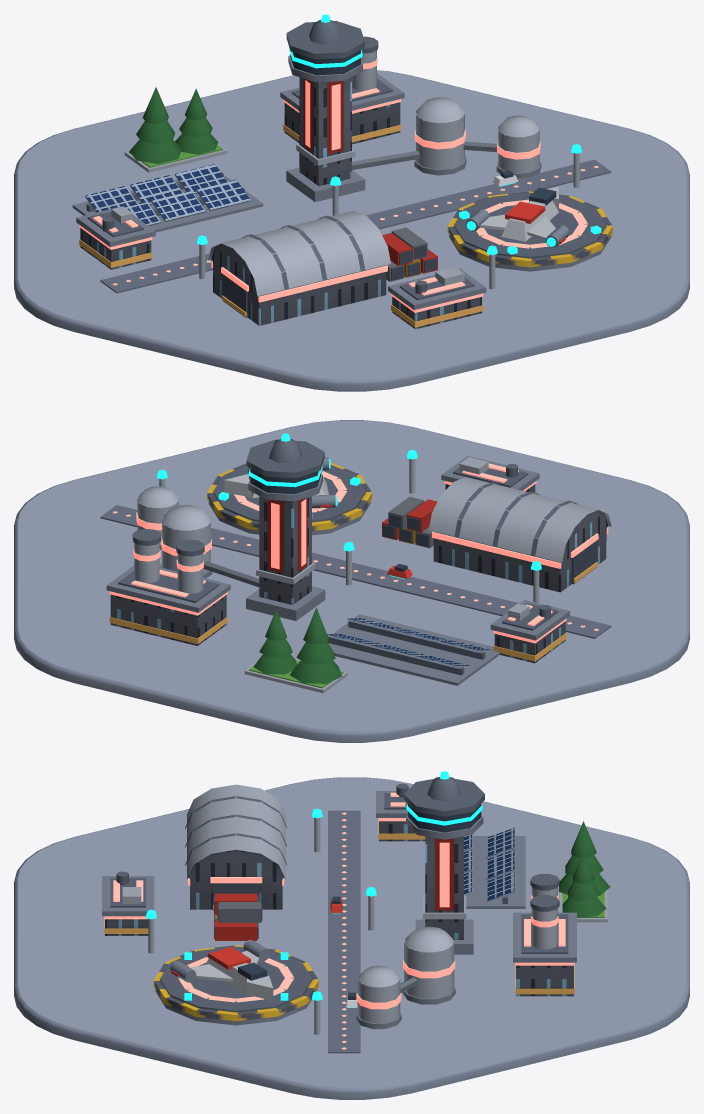
Rendered from district_scifi_c_red.glb.
3 views of the same model, one above another, from view 1: azimuth 30°, elevation 25°; view 2: azimuth 150°, elevation 25°; view 3: azimuth 270°, elevation 25° (orthographic).
Parts seen in each view (by area): view 1: district_scifi_c_red; view 2: district_scifi_c_red; view 3: district_scifi_c_red.
Boxes of the visible parts, x1=… form: district_scifi_c_red: x1=14, y1=14, x2=689, y2=391; district_scifi_c_red: x1=14, y1=420, x2=689, y2=742; district_scifi_c_red: x1=14, y1=771, x2=689, y2=1099.
Size of the model in its own units: 1.92 by 0.5199 by 1.75.
3 materials, 1 textured.
